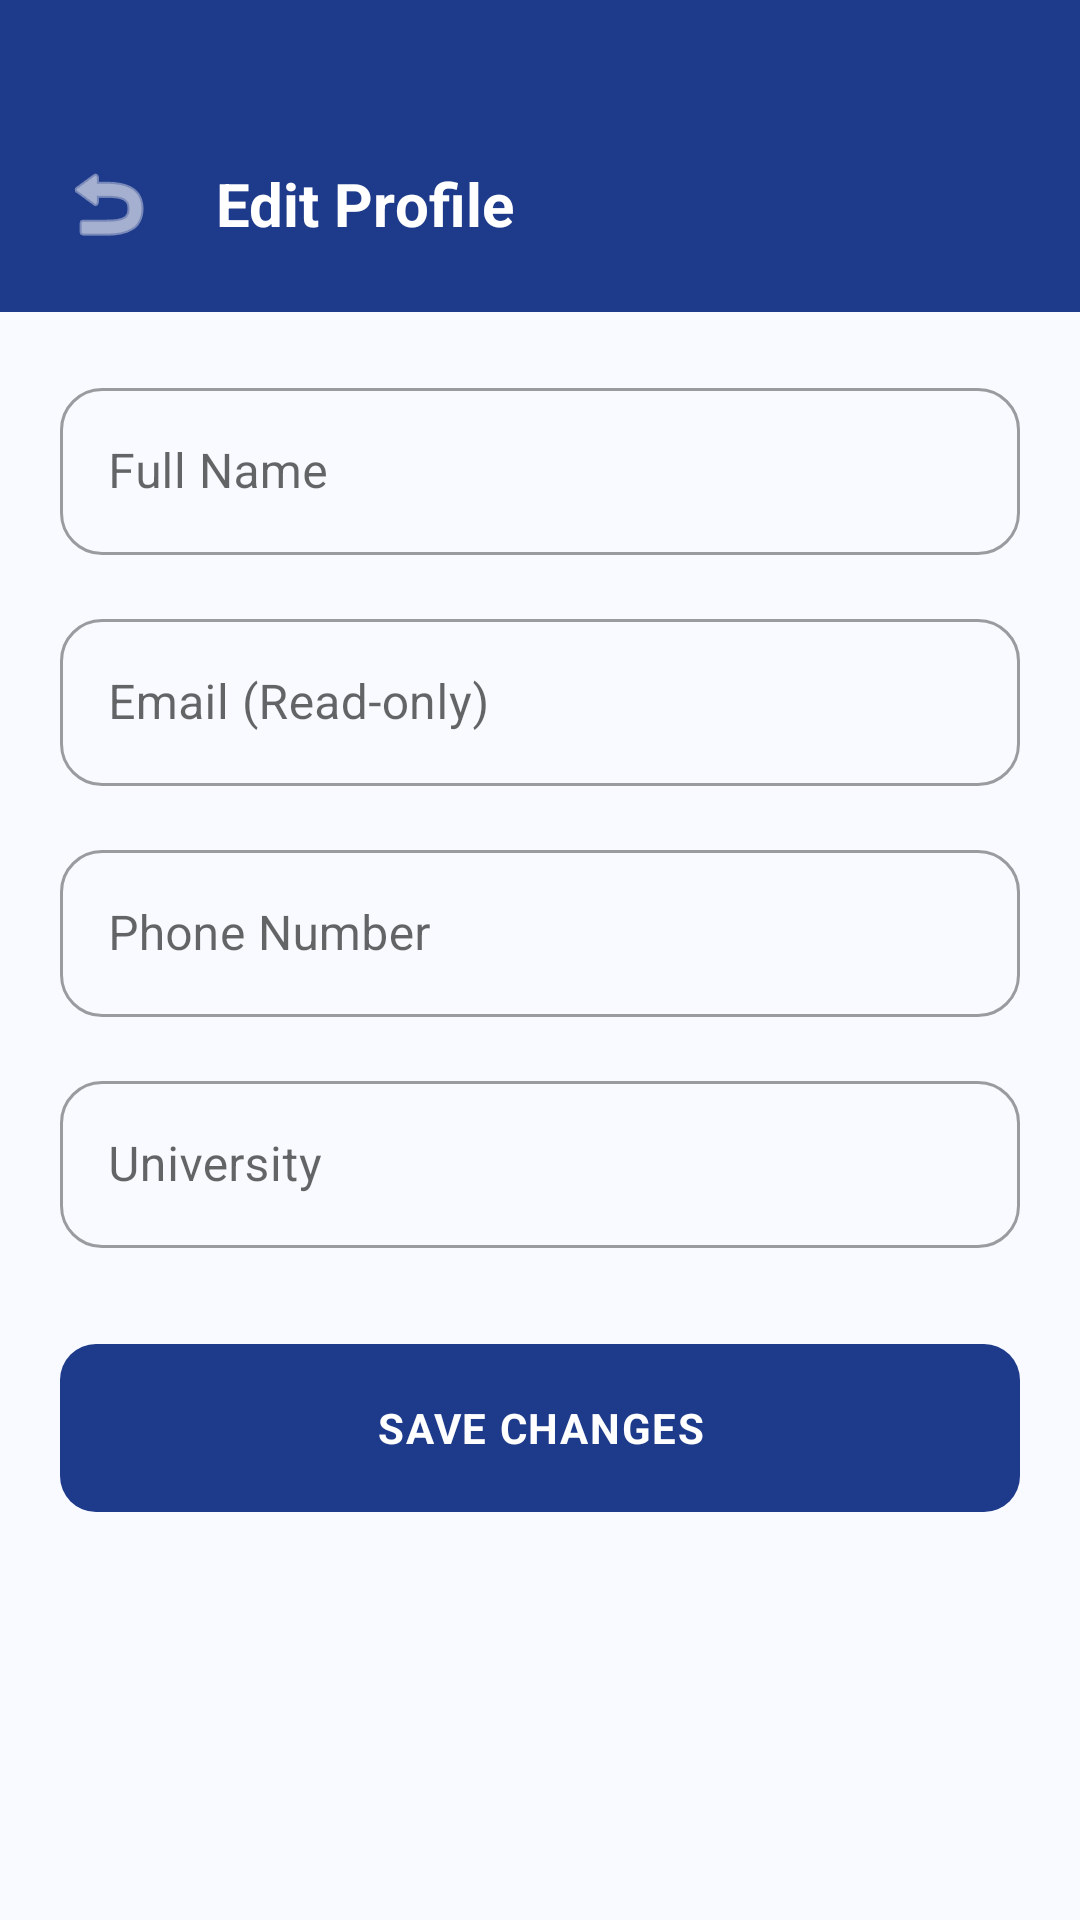

Where icons sit on this 1080w x 1920h app screen, as [x1, y1, x2, y2]:
Back: [75, 173, 144, 236]
